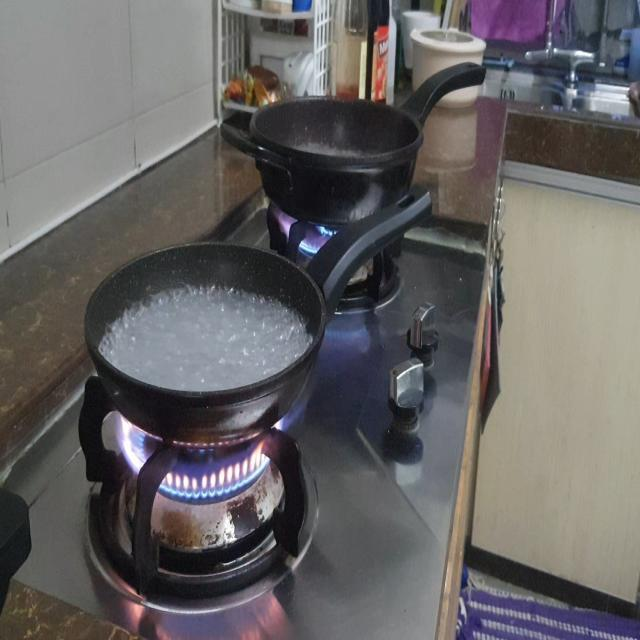fire: (118, 397, 313, 503), (262, 180, 338, 264)
